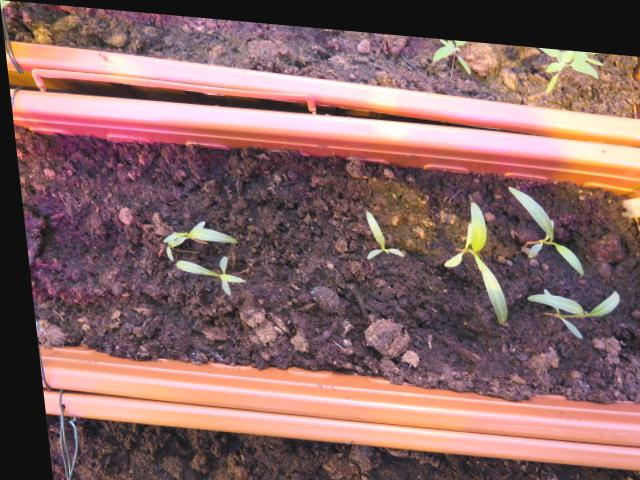weed: (352, 198, 401, 257)
